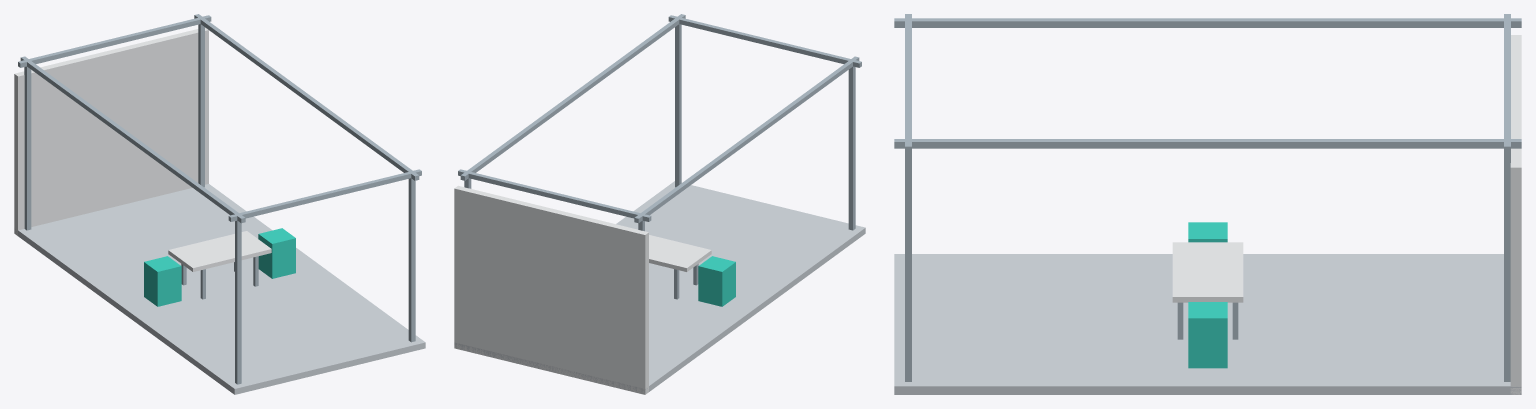
3 views of the same model, side by side, from view 1: azimuth 30°, elevation 25°; view 2: azimuth 150°, elevation 25°; view 3: azimuth 270°, elevation 25° (orthographic). The views are drawn at different scales.
Parts seen in each view (by area): view 1: Exhibition Booth Concept; view 2: Exhibition Booth Concept; view 3: Exhibition Booth Concept.
Part boxes in pixels (box(x1,y1,x2,y2)): Exhibition Booth Concept: box(14, 14, 425, 394); Exhibition Booth Concept: box(454, 14, 865, 394); Exhibition Booth Concept: box(894, 14, 1521, 394).
Size of the model in its own units: 4 by 3.49 by 8.
